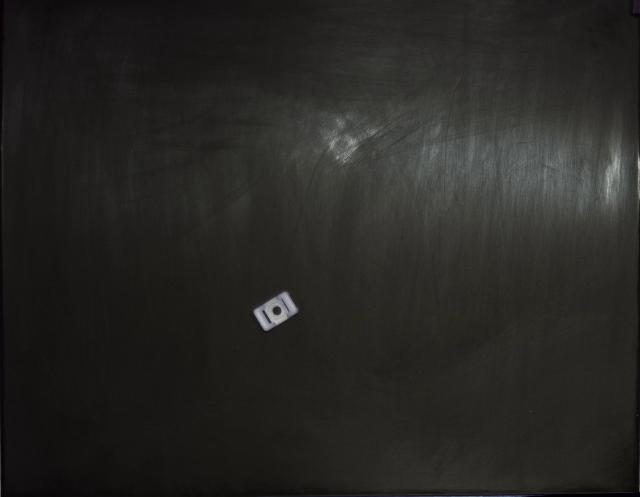first_side: (254, 291, 299, 331)
